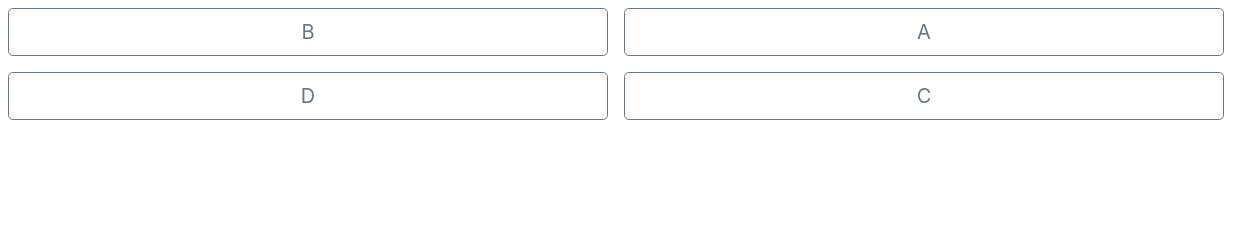
Test case: Option component › should show response when user clicks on any of the options
Step 1. Click the button "D" → (308, 96), box [8,72,608,120]
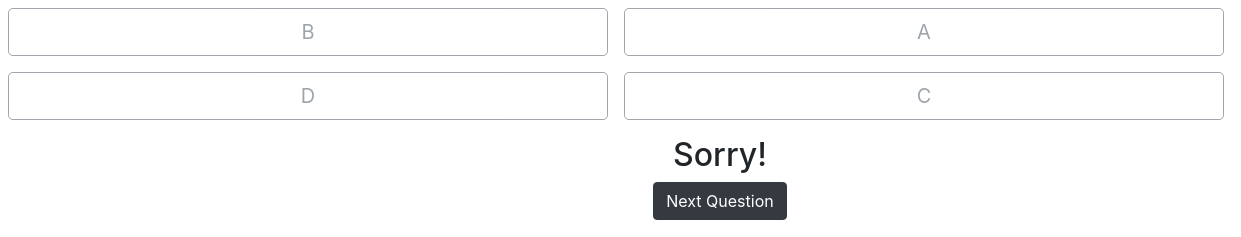
Expected: the heading "Sorry!" is shown, [673,136,767,174]
Expected: the button with test id "next-btn" is shown, [653,182,787,220]
